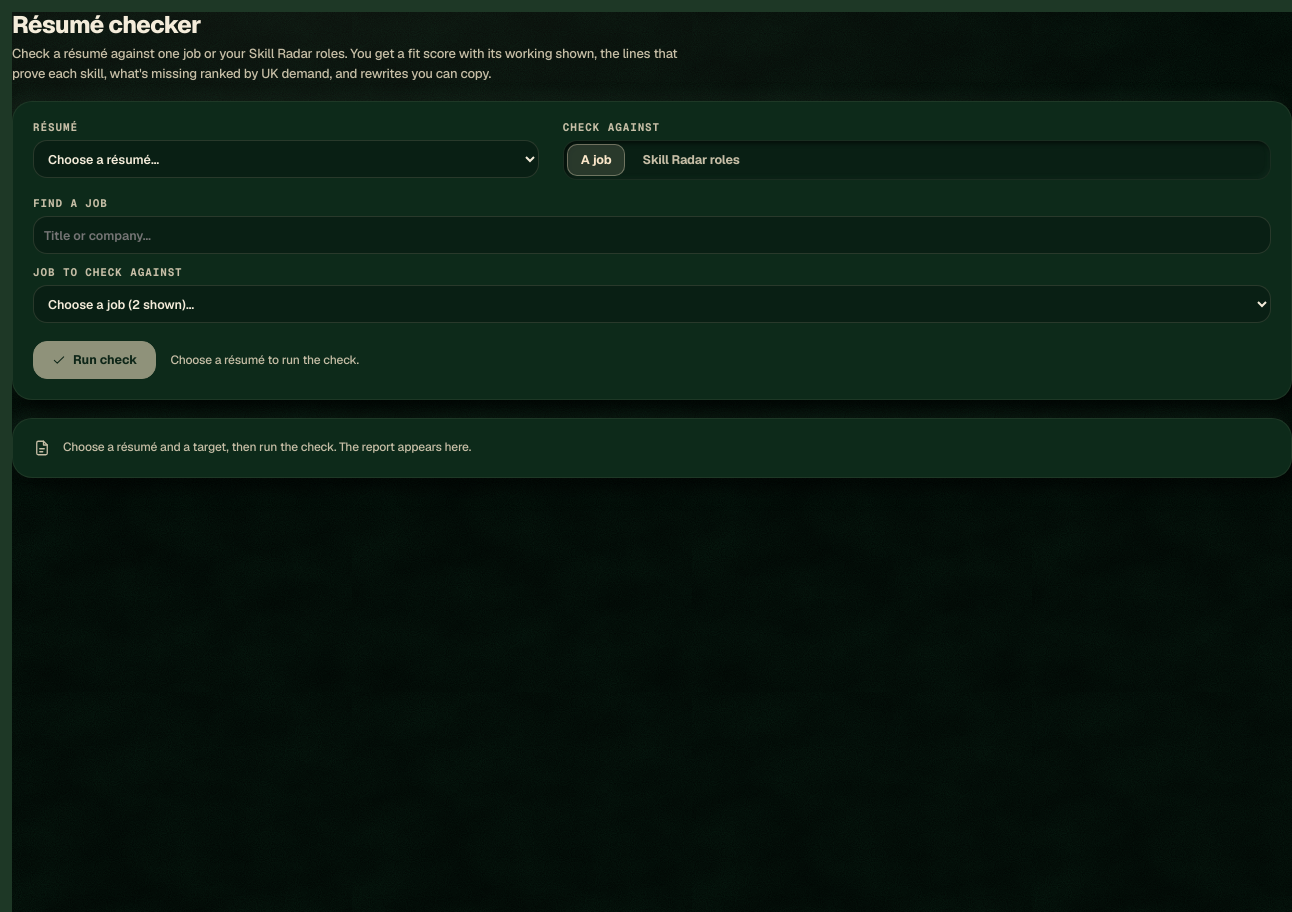
ResumeCheckerPage › says "no UK job corpus yet" instead of a share when nothing was scanned
Select "Suraj_AIPM.pdf" in the dropdown labelled "Résumé" at [286, 159], box top-left (33, 140), bottom-right (539, 178)
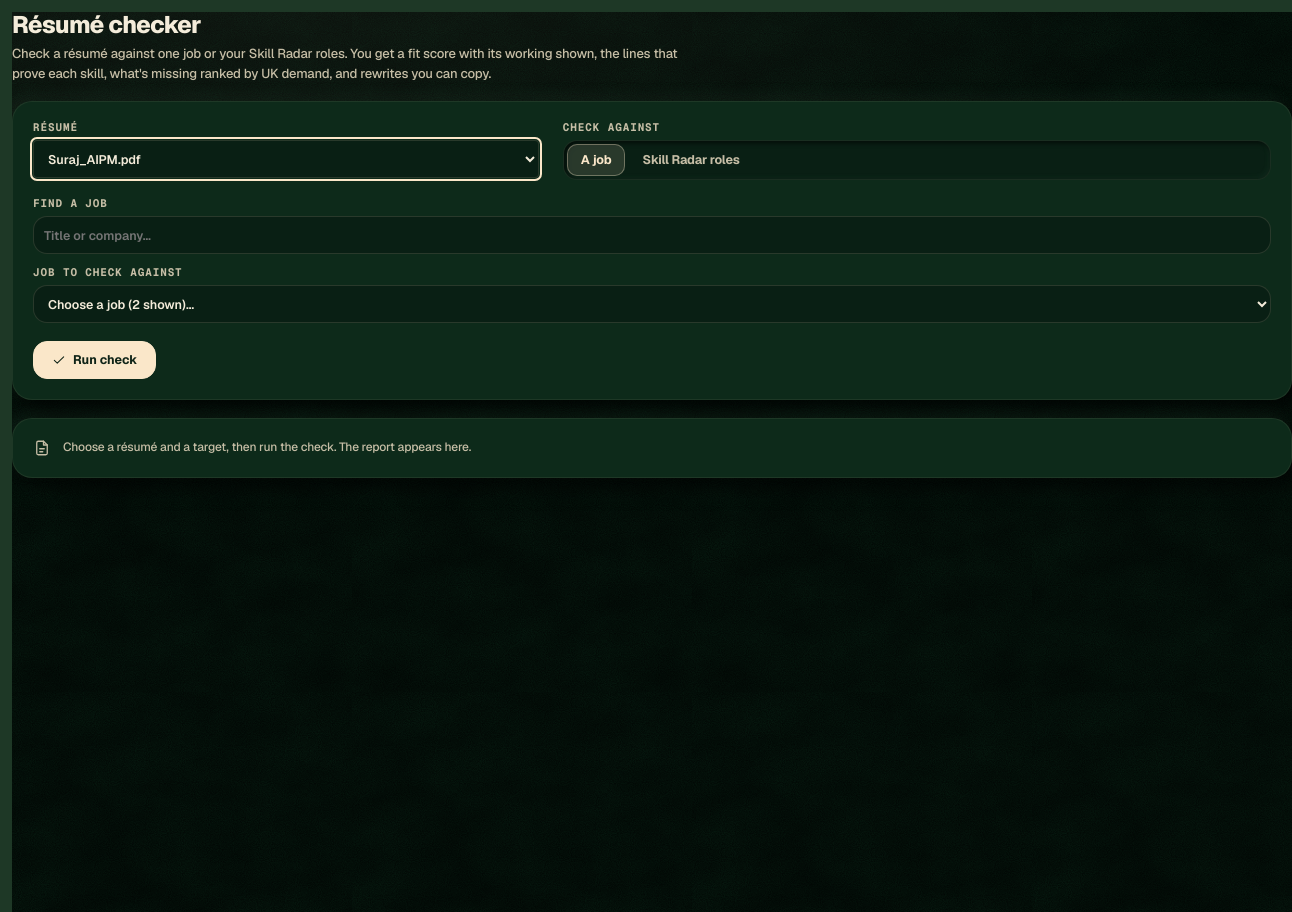
Select "Senior Frontend Engineer · Acme Corp" in the dropdown labelled "Job to check against" at [652, 304], box top-left (33, 285), bottom-right (1271, 323)
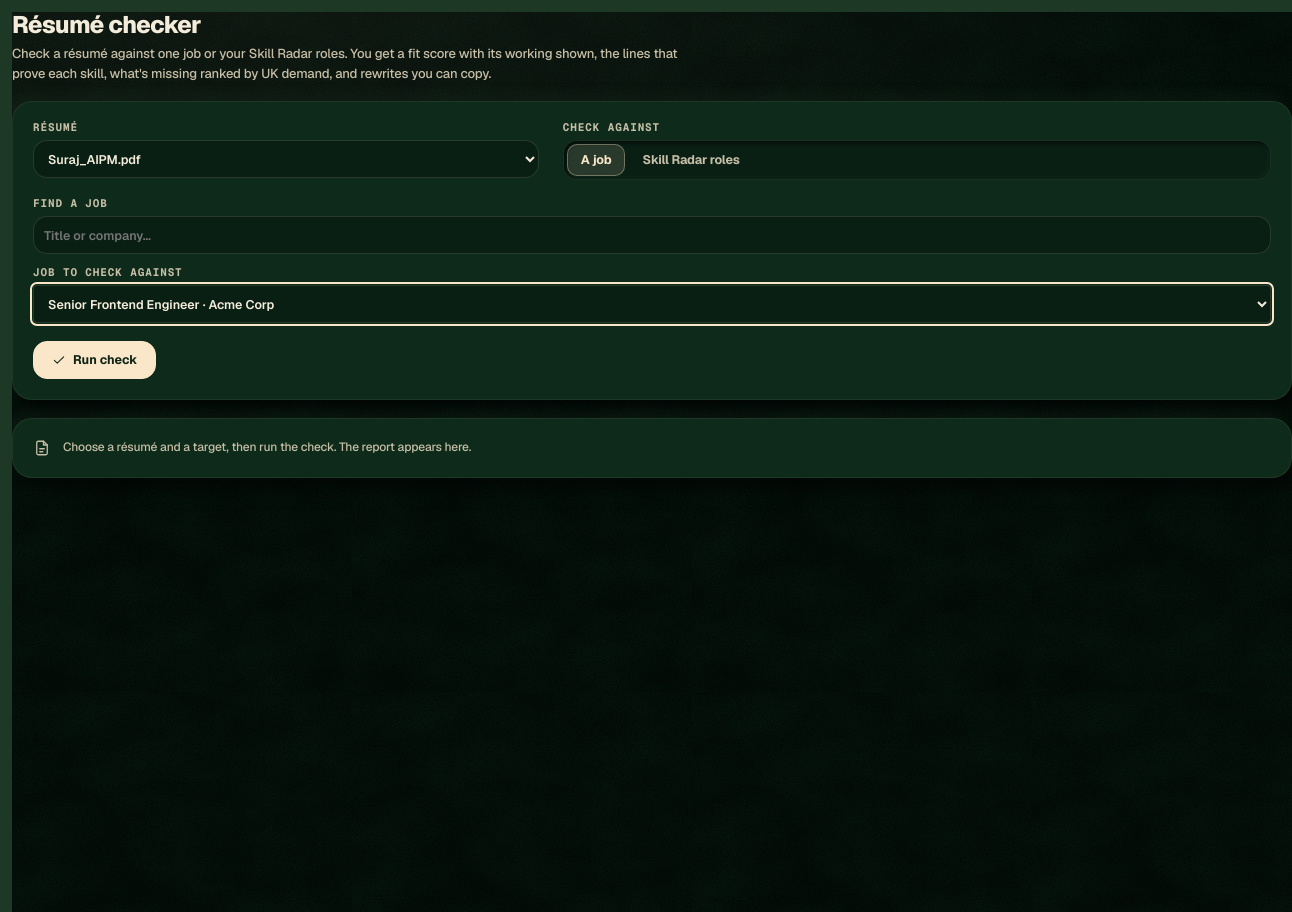
Click the button "Run check".
click(95, 360)  # box top-left (33, 341), bottom-right (156, 379)
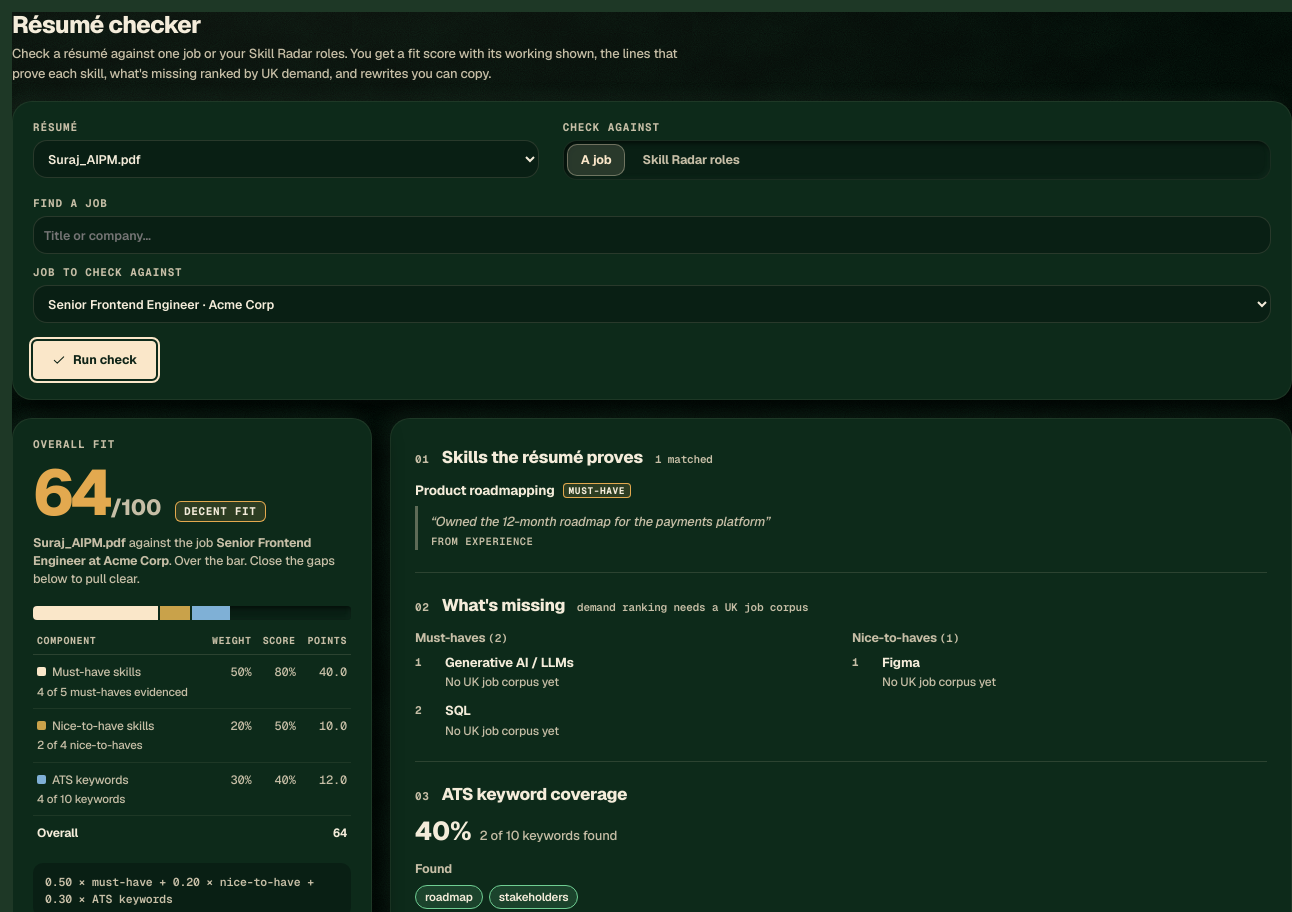
Result: the heading "Overall fit" is shown at top-left (33, 437), bottom-right (115, 451)
Result: the text "No UK job corpus yet" is shown 3 times at top-left (445, 674), bottom-right (559, 690); top-left (445, 723), bottom-right (559, 739); top-left (882, 674), bottom-right (996, 690)
